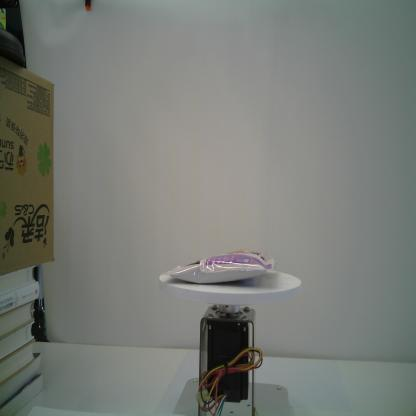Instant Drink: (161, 249, 276, 285)
